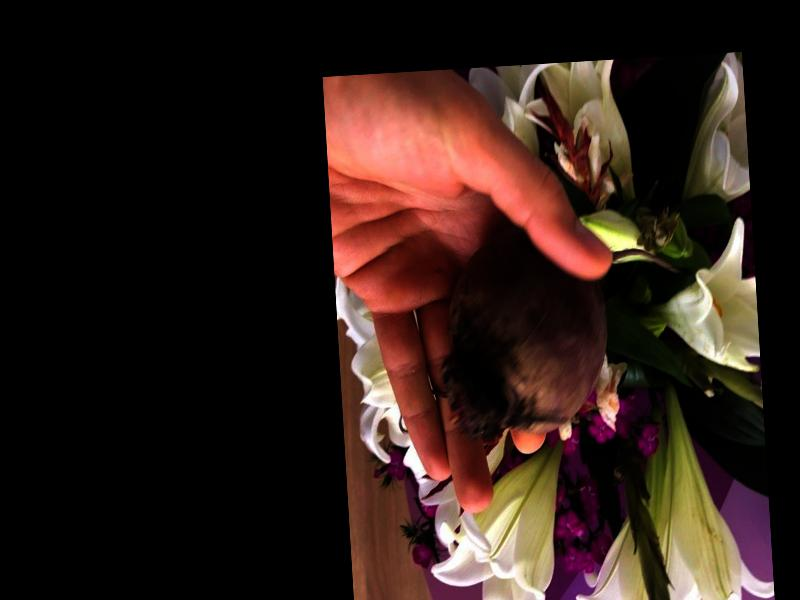Beet: (440, 220, 689, 442)
